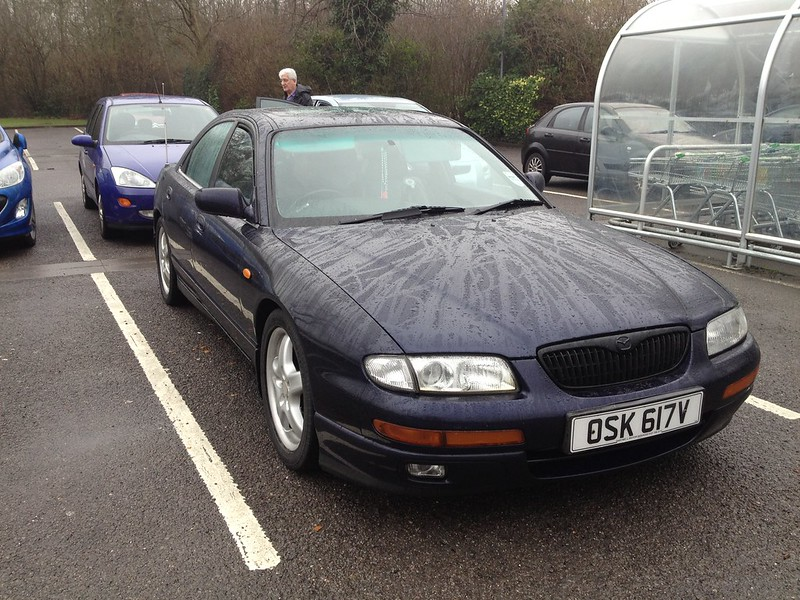number_plate: (553, 386, 730, 456)
